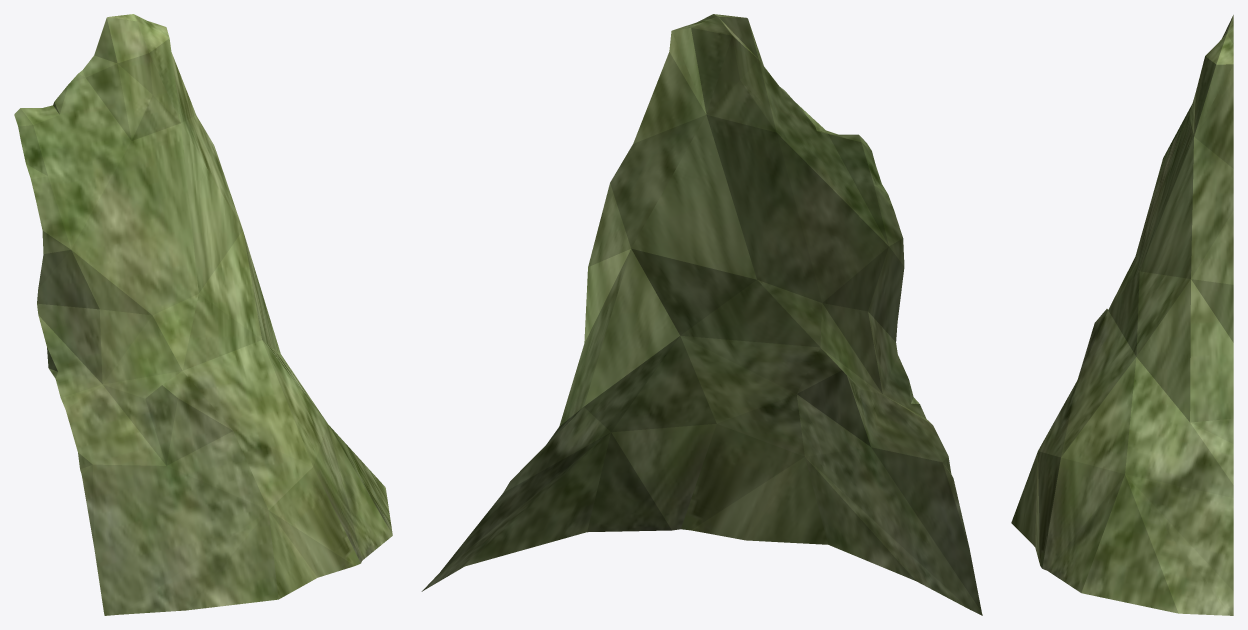
3 renders of one model, left to right at view 1: azimuth 30°, elevation 25°; view 2: azimuth 150°, elevation 25°; view 3: azimuth 270°, elevation 25°, orthographic. The views are drawn at different scales.
Size of the model in its own units: 2.08 by 2.91 by 1.21.
2 materials, 2 textured.
